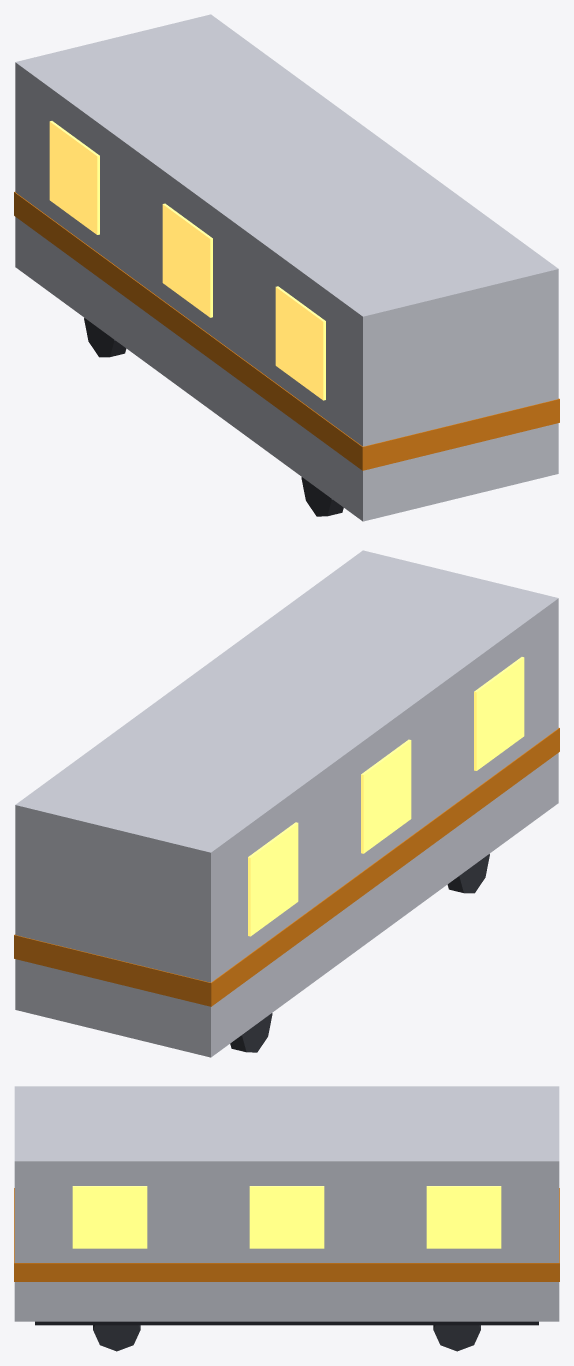
Rendered from train_car.fbx.
The picture shows the model from 3 angles, top to bottom: view 1: azimuth 30°, elevation 25°; view 2: azimuth 150°, elevation 25°; view 3: azimuth 270°, elevation 25°; orthographic projection. The views are drawn at different scales.
Visible parts, largest first — view 1: train_car; view 2: train_car; view 3: train_car.
Part boxes in pixels (x1,y1,x2,y2): train_car: (14, 14, 559, 521); train_car: (14, 550, 559, 1057); train_car: (14, 1086, 559, 1351).
Size of the model in its own units: 2.67 by 3.2 by 8.02.
